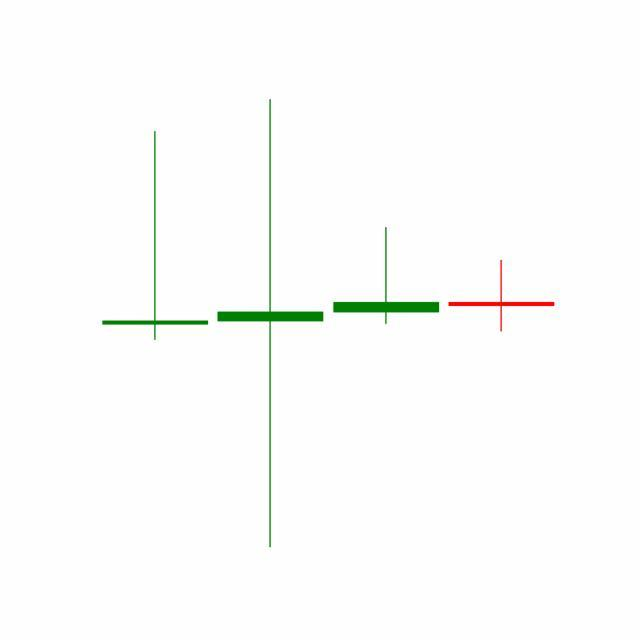Spinning Top: (329, 227, 445, 326)
